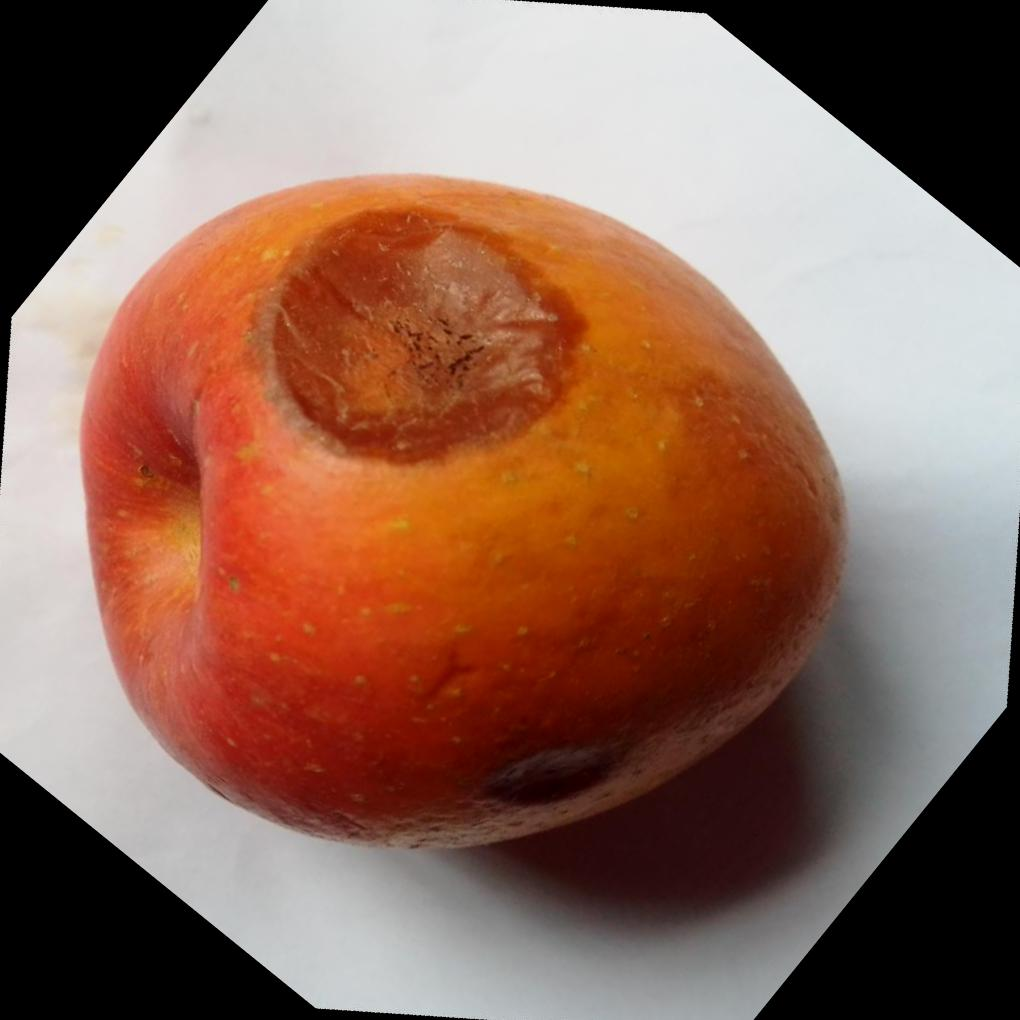FreshOrange: (78, 171, 850, 851)
